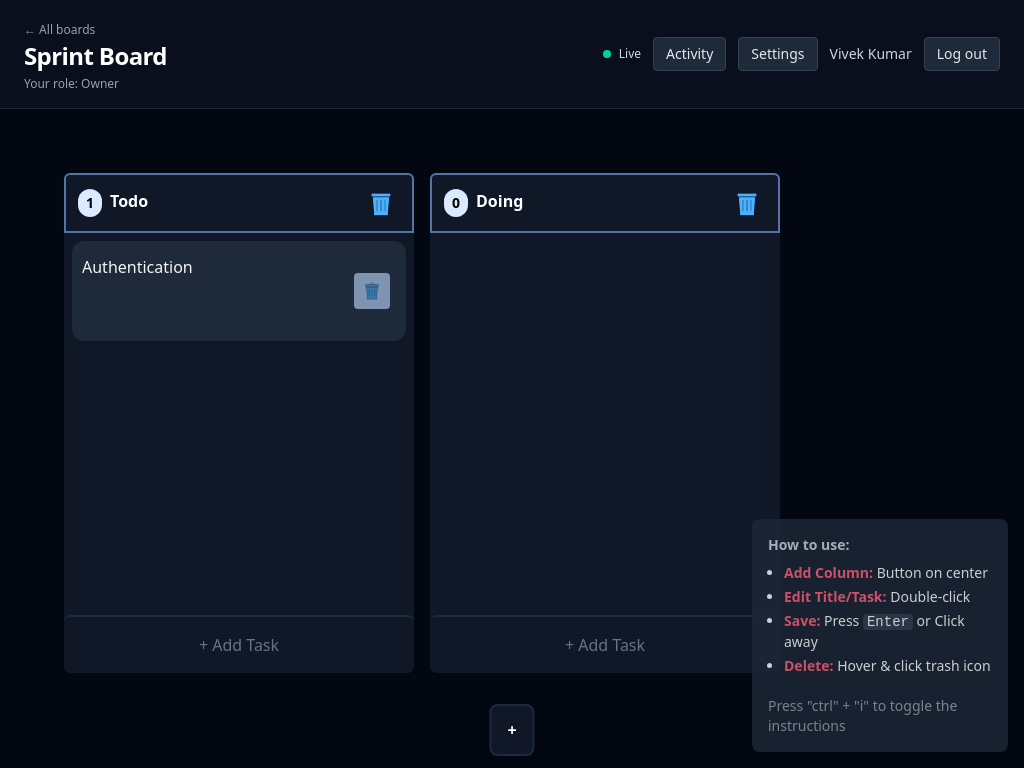
Scenario: editing a task while others edit it too › fields I haven't touched follow the other person's change
What coordinates should you click on to do the following:
click the text "Authentication"
I would click on:
 (137, 267)
Its box is [82,256,193,278].
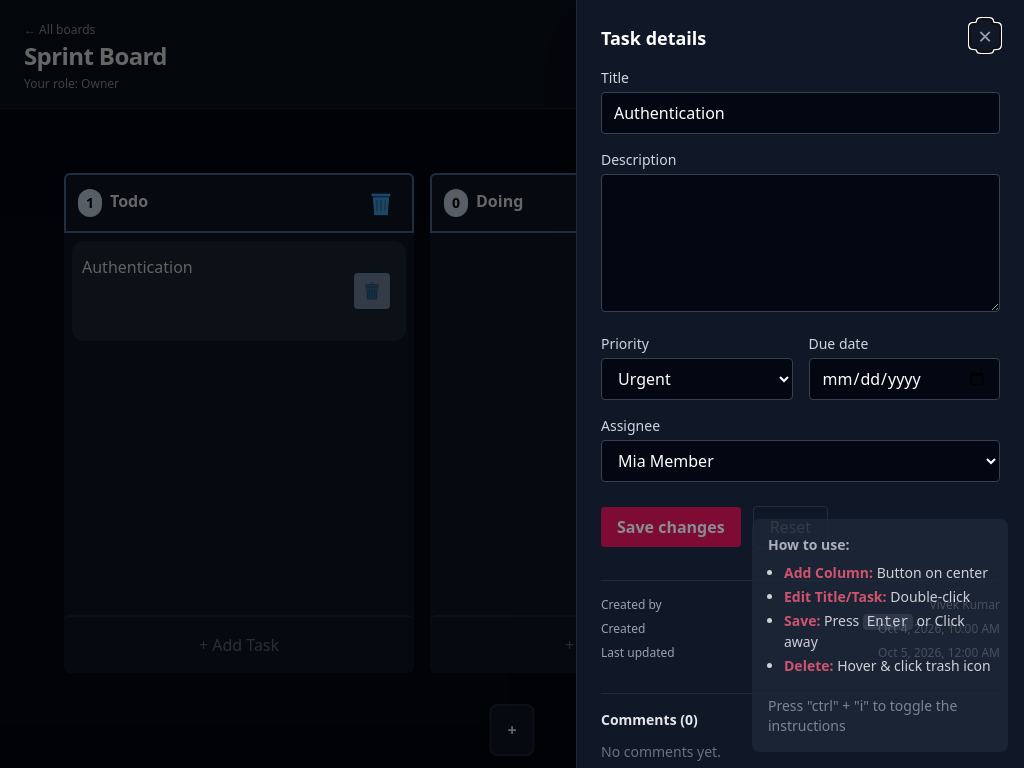
Expected: the dropdown labelled "Priority" shows "Urgent", [601,358,792,400]
Expected: the dropdown labelled "Assignee" shows "Mia Member", [601,440,1000,482]
Expected: the button "Save changes" is disabled, [601,507,741,547]
